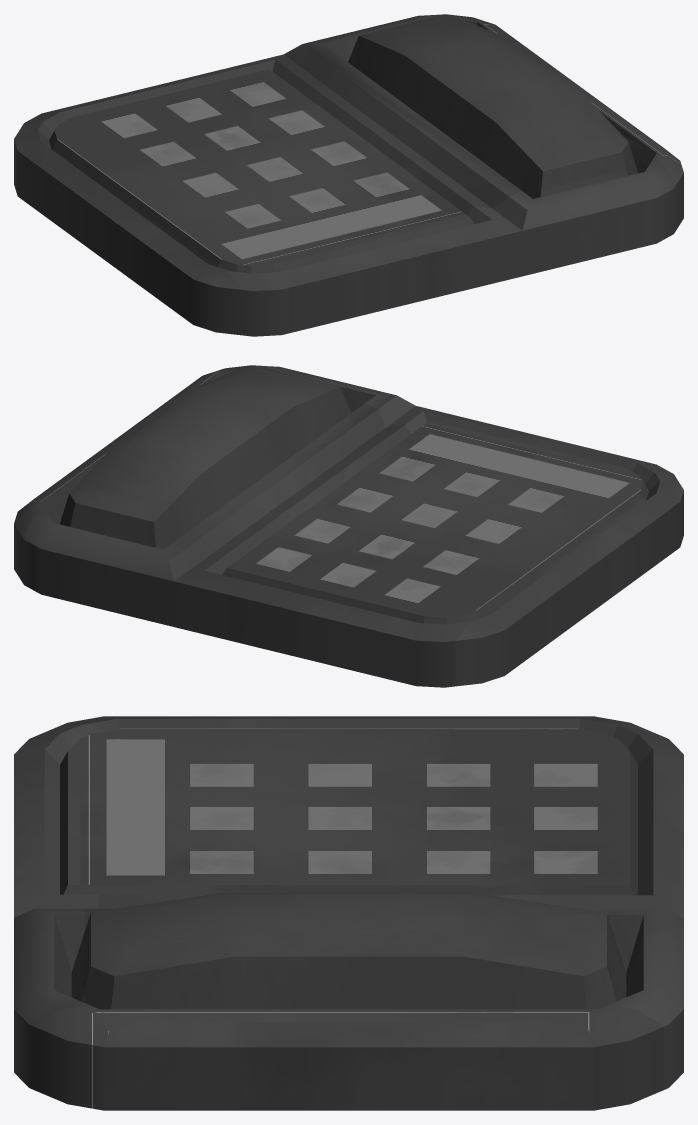
The model's file is Telefon.fbx.
3 renders of one model, top to bottom at view 1: azimuth 30°, elevation 25°; view 2: azimuth 150°, elevation 25°; view 3: azimuth 270°, elevation 25°, orthographic. The views are drawn at different scales.
Visible parts, largest first — view 1: Telefon; view 2: Telefon; view 3: Telefon.
Boxes of the visible parts, x1=… form: Telefon: x1=14, y1=14, x2=683, y2=336; Telefon: x1=14, y1=365, x2=683, y2=687; Telefon: x1=14, y1=716, x2=683, y2=1110.
Bounding box in the file's own units: 61.48 × 11.43 × 52.61.
Materials: 1 (1 with a texture image).
